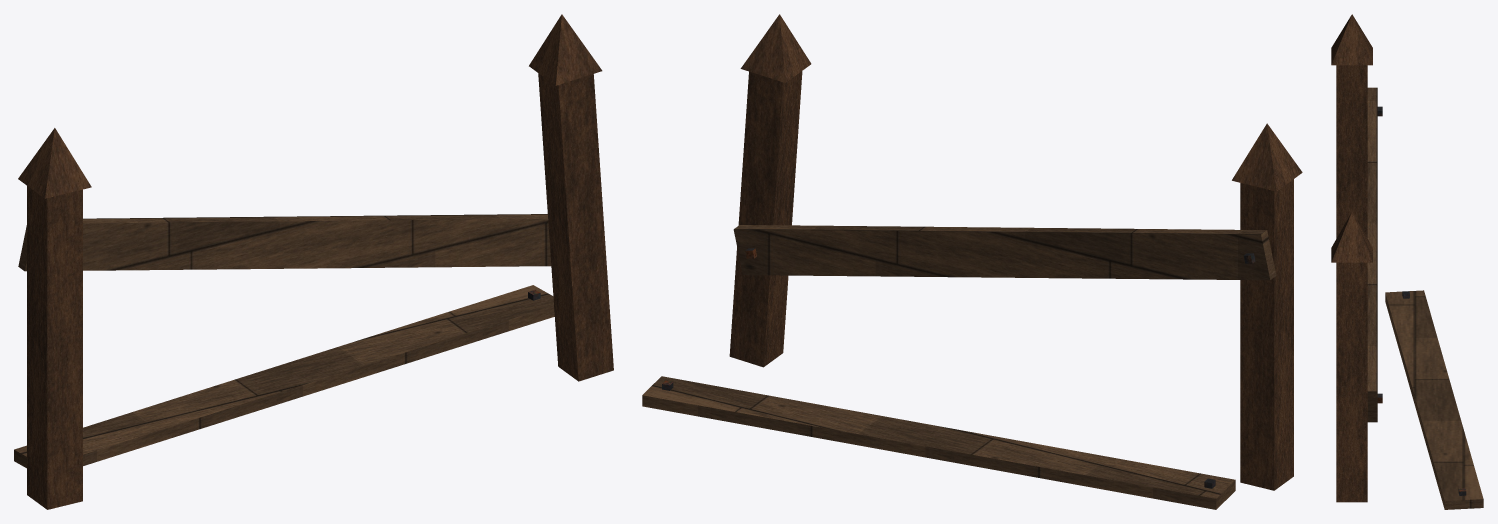
Rendered from fence_wood_b.glb.
3 renders of one model, left to right at view 1: azimuth 30°, elevation 25°; view 2: azimuth 150°, elevation 25°; view 3: azimuth 270°, elevation 25°, orthographic. The views are drawn at different scales.
Parts seen in each view (by area): view 1: fence_wood_b; view 2: fence_wood_b; view 3: fence_wood_b.
Part boxes in pixels (<box>): fence_wood_b: <box>14,14,613,509</box>; fence_wood_b: <box>642,14,1302,509</box>; fence_wood_b: <box>1331,14,1483,509</box>.
Size of the model in its own units: 2.68 by 1.61 by 0.7774.
Materials: 3 (3 with a texture image).
